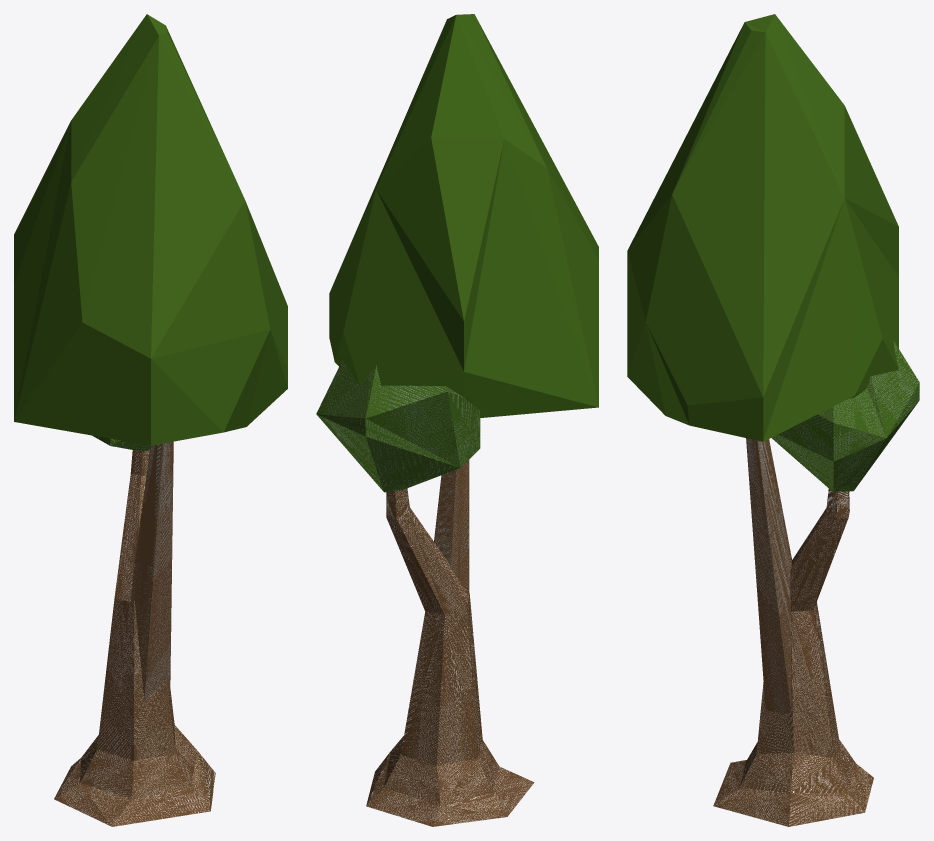
The model's file is Tree2.fbx.
3 views of the same model, side by side, from view 1: azimuth 30°, elevation 25°; view 2: azimuth 150°, elevation 25°; view 3: azimuth 270°, elevation 25° (orthographic).
Visible parts, largest first — view 1: Group5, Group2, Group3; view 2: Group5, Group2, Group4, Group3; view 3: Group5, Group2, Group4, Group3.
Boxes of the visible parts, box(x1,y1,x2,y2) form: Group5: box(14, 14, 287, 445); Group2: box(54, 449, 215, 826); Group3: box(130, 441, 173, 703); Group5: box(329, 14, 598, 417); Group2: box(366, 488, 534, 826); Group4: box(316, 360, 480, 492); Group3: box(434, 460, 469, 594); Group5: box(627, 14, 898, 441); Group2: box(713, 488, 873, 826); Group4: box(771, 340, 919, 492); Group3: box(746, 438, 791, 713).
Size of the model in its own units: 941 by 2569 by 877.
